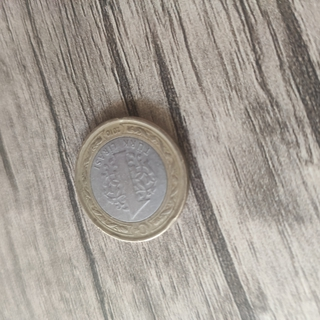1TL: (72, 115, 189, 244)
